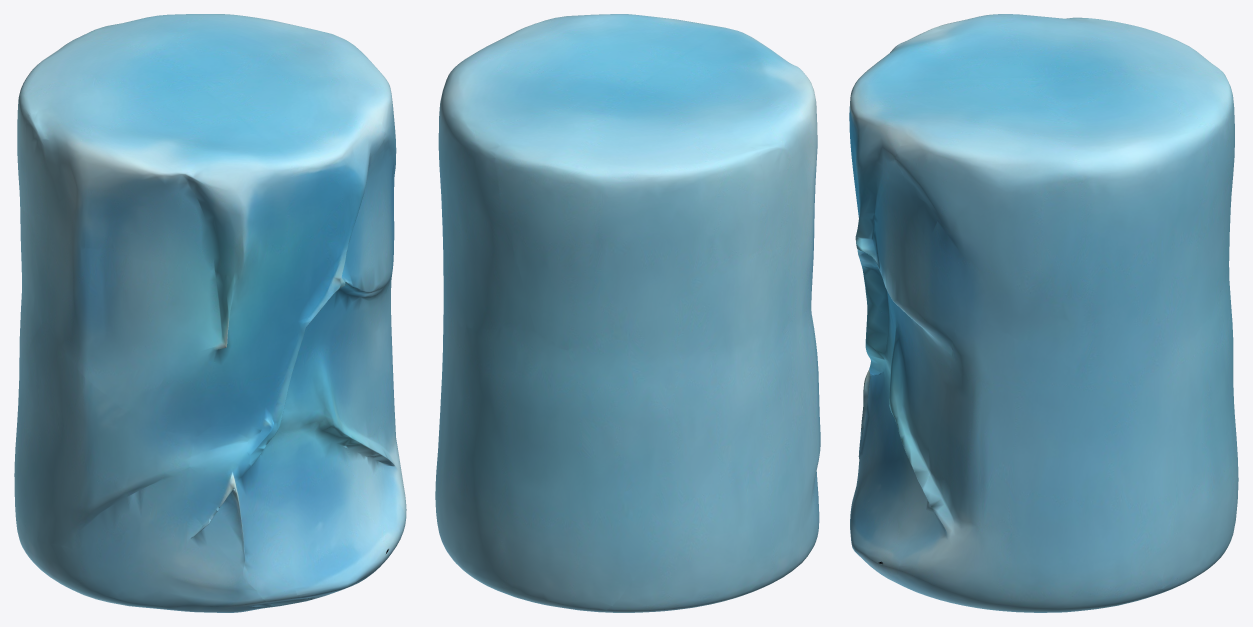
File: buz_silindir_parcali.glb
3 views of the same model, side by side, from view 1: azimuth 30°, elevation 25°; view 2: azimuth 150°, elevation 25°; view 3: azimuth 270°, elevation 25° (orthographic).
Visible parts, largest first — view 1: p05, p11, p10, p06, p09, p01, p02, p07, p00, p03, p08; view 2: p07, p04, p03, p01, p05, p06, p09, p10; view 3: p01, p00, p11, p04, p05, p07, p08, p02.
Part boxes in pixels (<box>): p05: <box>25,84,384,278</box>; p11: <box>234,219,399,599</box>; p10: <box>29,214,323,438</box>; p06: <box>14,318,194,546</box>; p09: <box>14,496,274,612</box>; p01: <box>163,14,396,227</box>; p02: <box>182,409,310,606</box>; p07: <box>17,15,202,213</box>; p00: <box>367,273,406,546</box>; p03: <box>18,208,45,389</box>; p08: <box>349,138,392,241</box>; p07: <box>494,85,769,349</box>; p04: <box>437,324,661,612</box>; p03: <box>566,242,786,534</box>; p01: <box>438,14,632,330</box>; p05: <box>595,14,817,240</box>; p06: <box>661,320,820,560</box>; p09: <box>600,472,819,612</box>; p10: <box>769,202,814,333</box>; p01: <box>896,79,1231,393</box>; p00: <box>898,307,1162,612</box>; p11: <box>850,217,959,584</box>; p04: <box>1127,267,1238,593</box>; p05: <box>849,14,1089,218</box>; p07: <box>1043,18,1234,246</box>; p08: <box>871,159,936,275</box>; p02: <box>850,369,885,514</box>.
Bounding box in the file's own units: 0.7402 × 0.98 × 0.7452.
2 materials, 1 textured.
